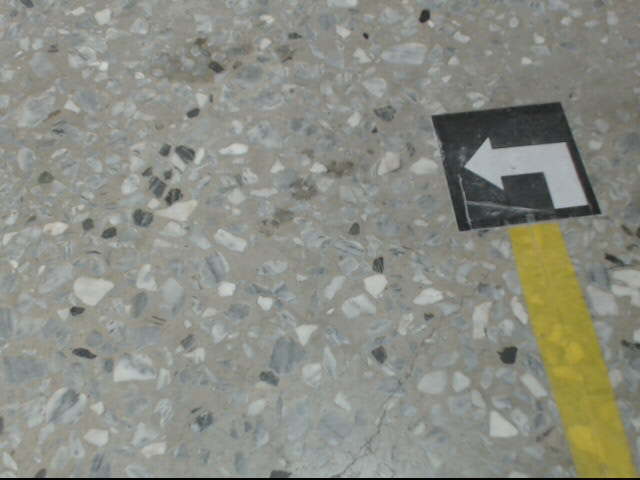left: (432, 101, 602, 231)
